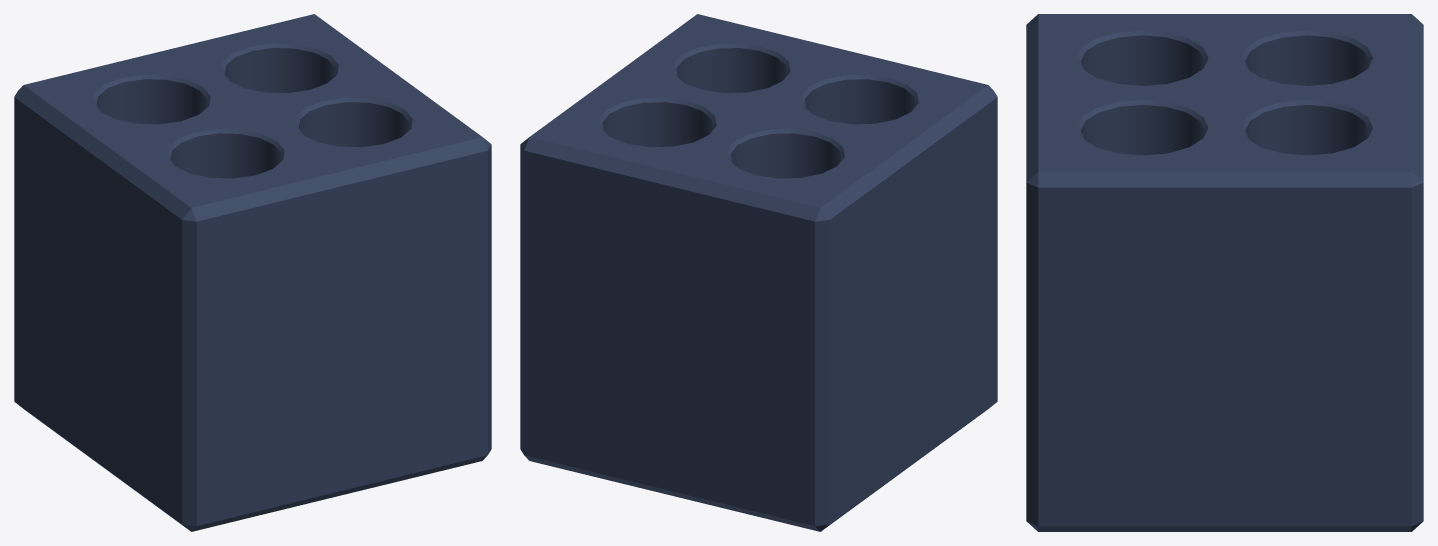
The model's file is spikeBlock_Model.fbx.
3 renders of one model, left to right at view 1: azimuth 30°, elevation 25°; view 2: azimuth 150°, elevation 25°; view 3: azimuth 270°, elevation 25°, orthographic. The views are drawn at different scales.
Visible parts, largest first — view 1: spikeBlock; view 2: spikeBlock; view 3: spikeBlock.
Part boxes in pixels (<box>): spikeBlock: <box>14,14,491,531</box>; spikeBlock: <box>520,14,997,531</box>; spikeBlock: <box>1026,14,1423,531</box>.
Size of the model in its own units: 2.5 by 2.5 by 2.5.
